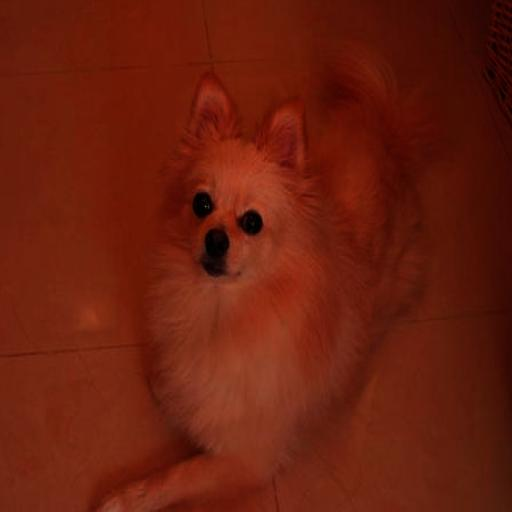dog_face: (170, 76, 304, 278)
